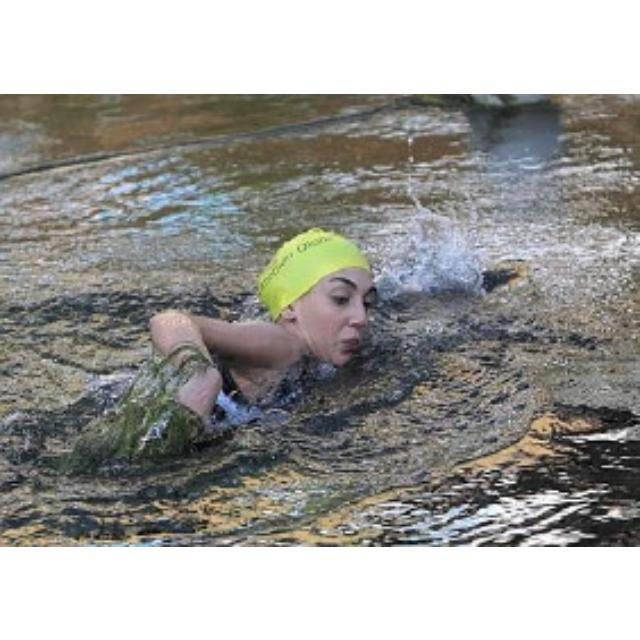human: (151, 224, 377, 441)
